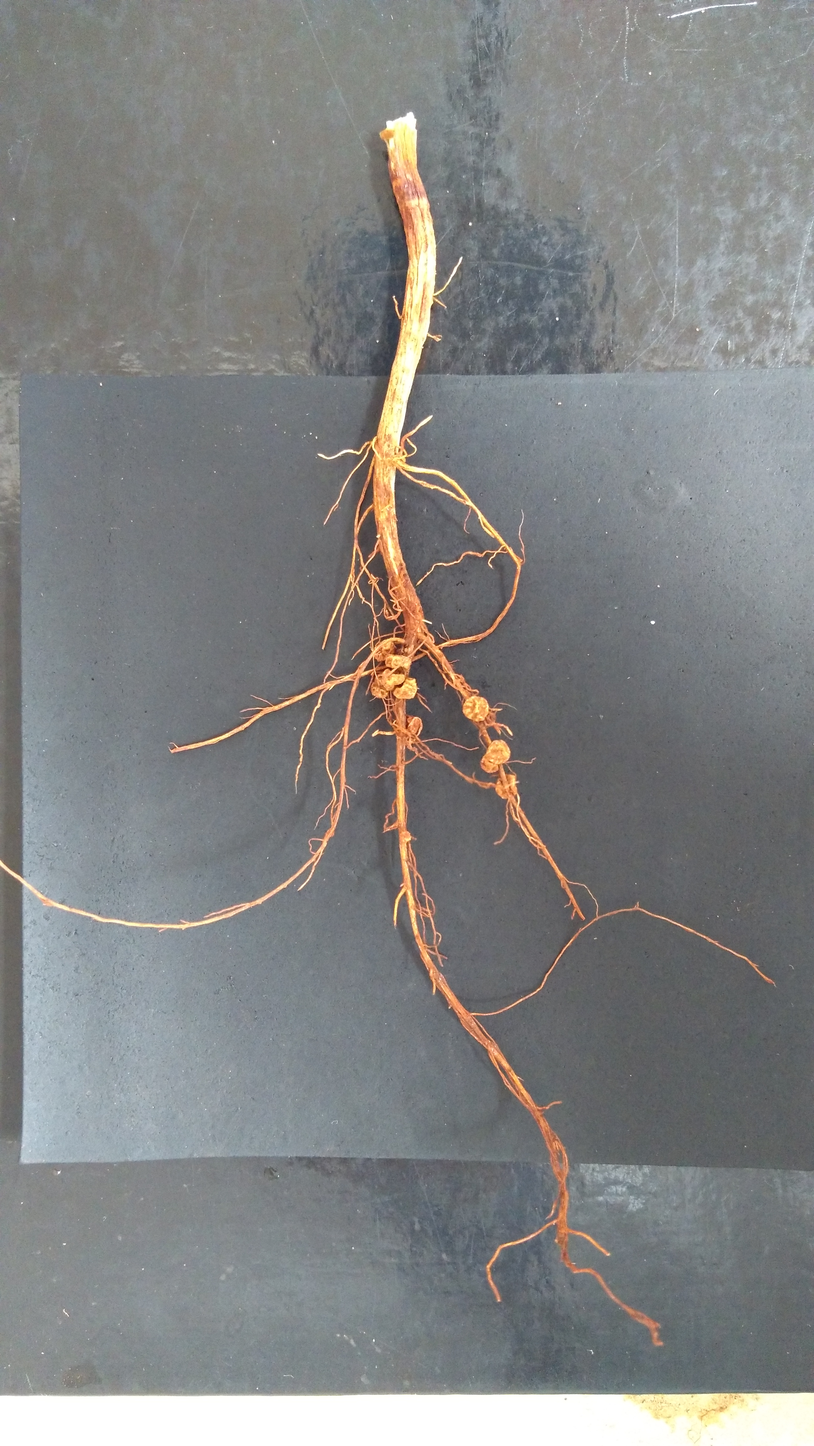nodule: (391, 715, 422, 740), (461, 695, 489, 722), (374, 668, 406, 691), (486, 739, 511, 765), (495, 773, 518, 799), (373, 638, 397, 662), (393, 677, 418, 700), (385, 653, 412, 671), (480, 753, 499, 773), (370, 680, 389, 698), (399, 830, 410, 843)
